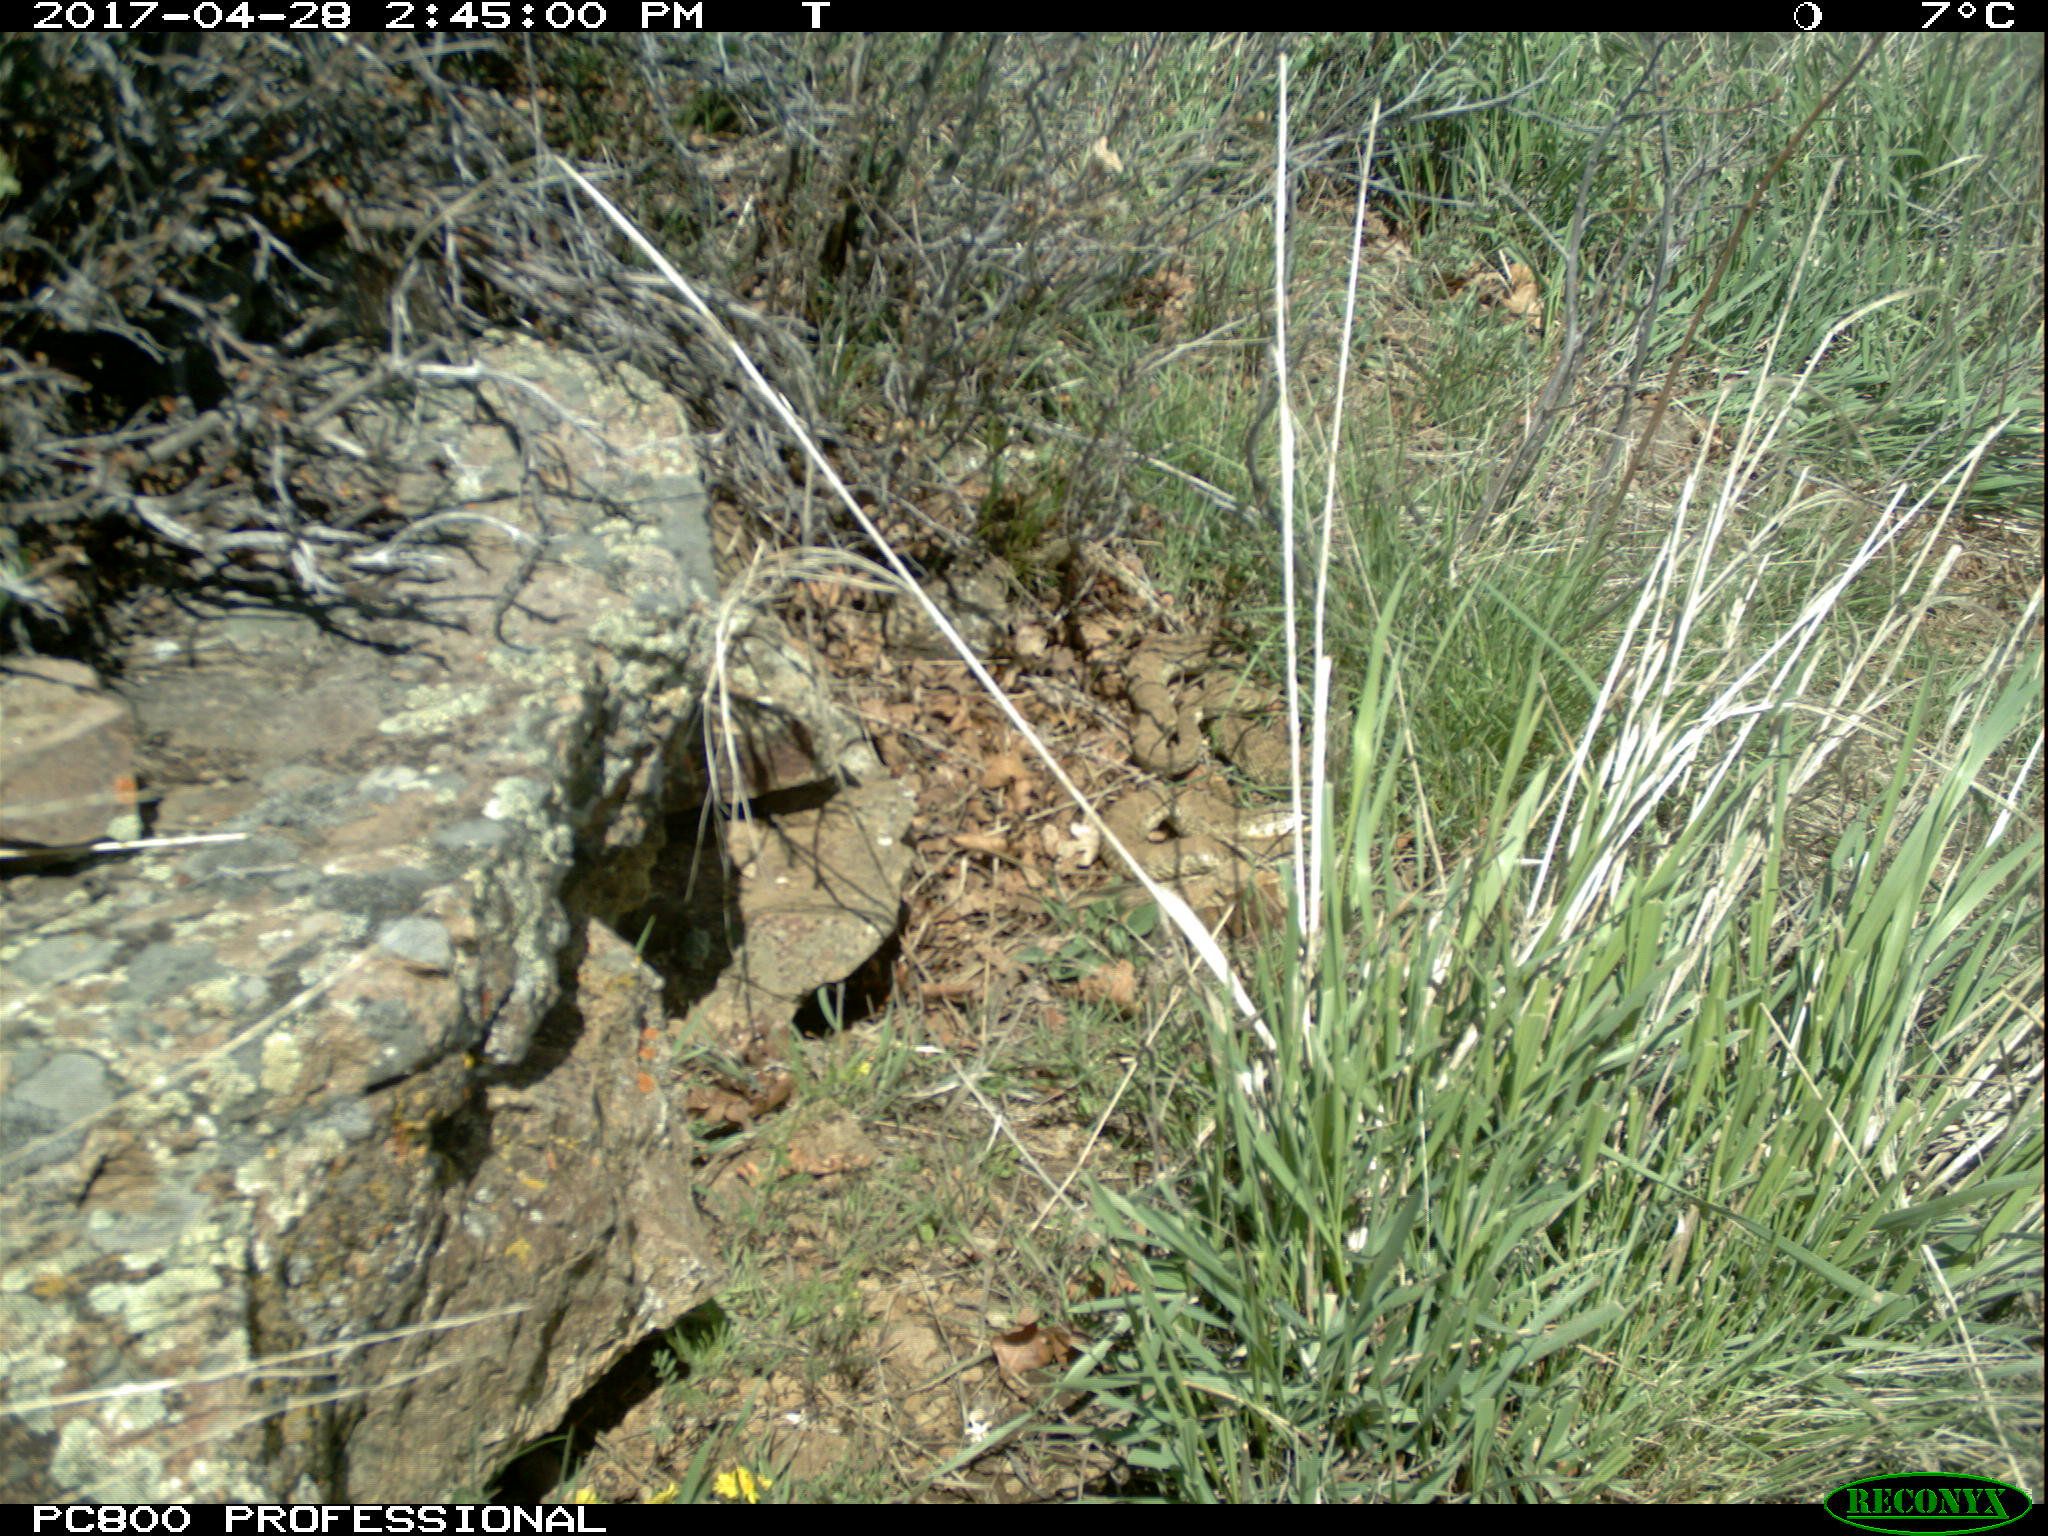snake: (1119, 673, 1334, 794), (1098, 783, 1309, 878)
